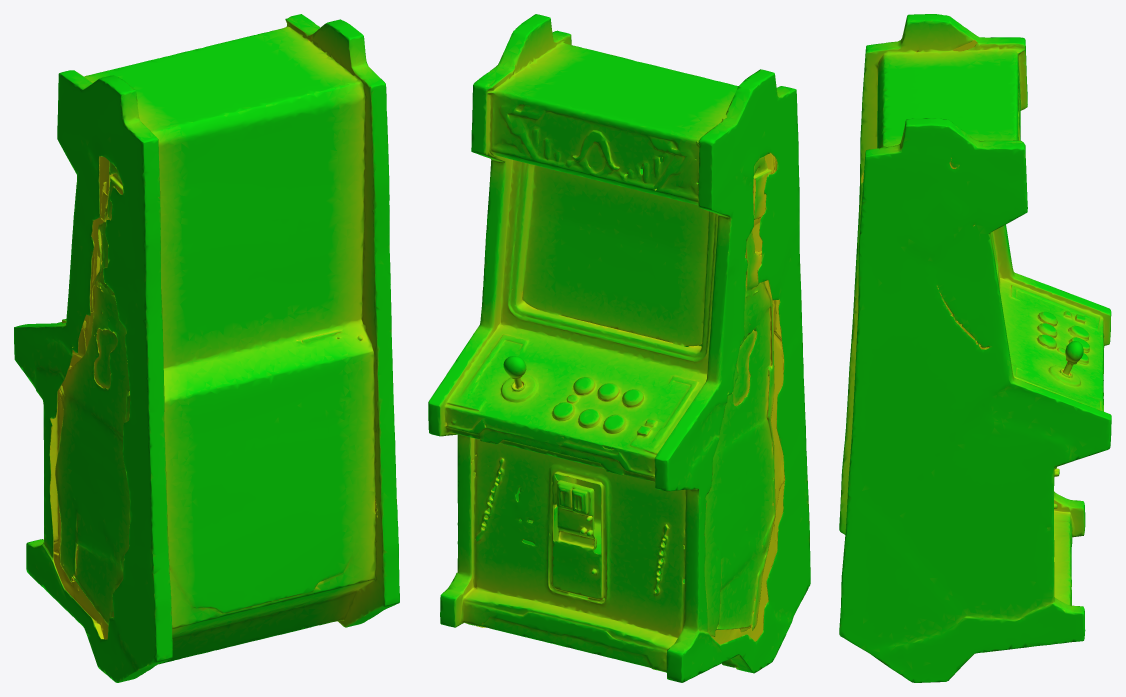
File: arcademachine_outline.fbx
3 views of the same model, side by side, from view 1: azimuth 30°, elevation 25°; view 2: azimuth 150°, elevation 25°; view 3: azimuth 270°, elevation 25° (orthographic). The views are drawn at different scales.
Parts seen in each view (by area): view 1: arcademachine_outline; view 2: arcademachine_outline; view 3: arcademachine_outline.
Part boxes in pixels (bbox=[...]): arcademachine_outline: bbox=[14, 14, 399, 682]; arcademachine_outline: bbox=[428, 14, 810, 682]; arcademachine_outline: bbox=[839, 14, 1111, 682].
Bounding box in the file's own units: 78.09 × 180 × 79.66.
